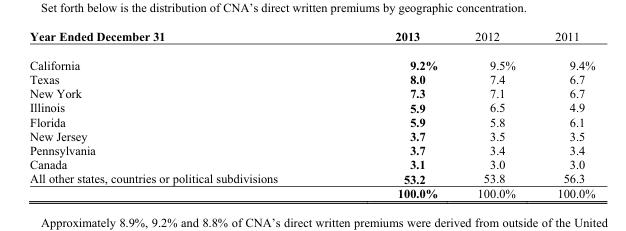table: (29, 28, 594, 200)
table column: (29, 28, 335, 200), (335, 28, 455, 200), (455, 28, 534, 200), (534, 28, 594, 200)
table column header: (29, 28, 594, 50)
table row: (29, 28, 594, 50), (29, 50, 594, 71), (29, 71, 594, 86), (29, 142, 594, 157), (29, 185, 594, 200), (29, 86, 594, 100), (29, 100, 594, 114), (29, 114, 594, 128), (29, 128, 594, 142), (29, 157, 594, 171), (29, 171, 594, 185)
